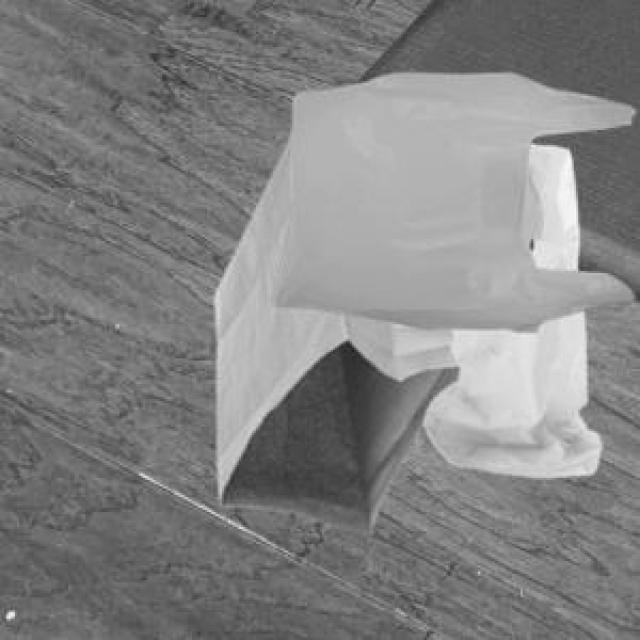paper: (211, 139, 457, 529)
